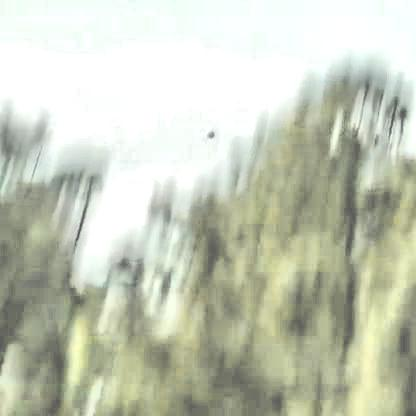golfball: (201, 127, 212, 137)
